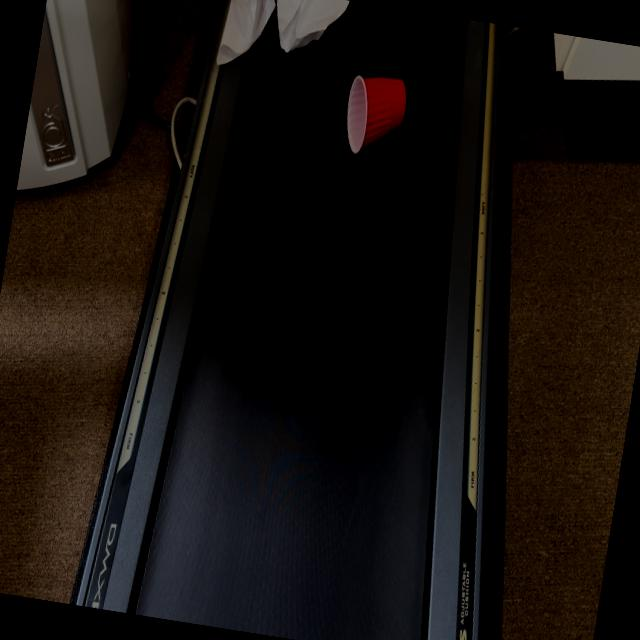Recycle: (332, 65, 434, 158)
Trash: (222, 0, 326, 79)
